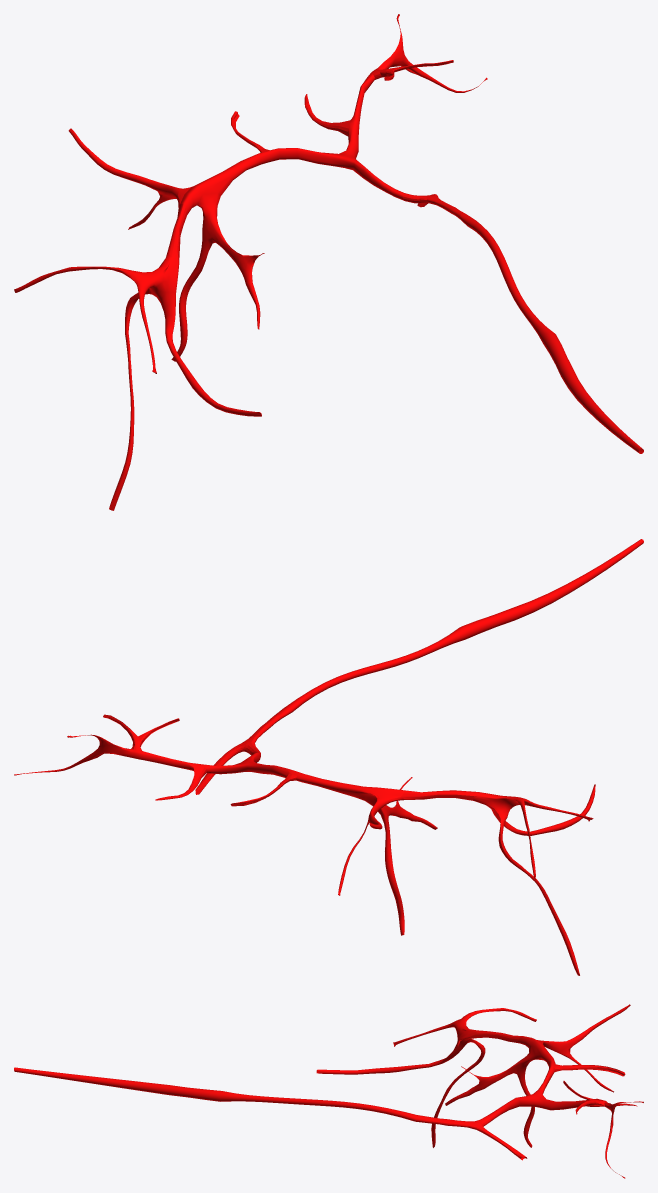
Rendered from Hepatic_Artery_Inner.fbx.
3 renders of one model, top to bottom at view 1: azimuth 30°, elevation 25°; view 2: azimuth 150°, elevation 25°; view 3: azimuth 270°, elevation 25°, orthographic. The views are drawn at different scales.
Visible parts, largest first — view 1: Hepatic_Artery_Inner; view 2: Hepatic_Artery_Inner; view 3: Hepatic_Artery_Inner.
Part boxes in pixels (left/top/right/bottom): Hepatic_Artery_Inner: left=14, top=14, right=643, bottom=510; Hepatic_Artery_Inner: left=14, top=539, right=643, bottom=975; Hepatic_Artery_Inner: left=14, top=1004, right=643, bottom=1178.
Bounding box in the file's own units: 171 × 85.13 × 249.
